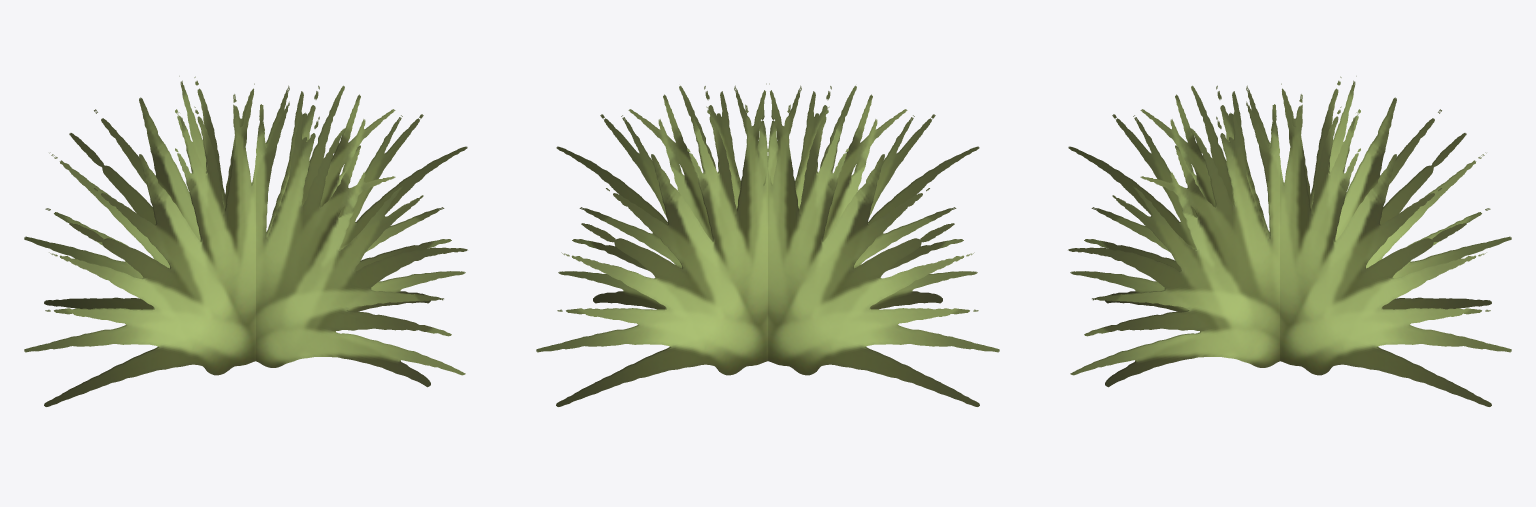
File: HP3_weed3 1.fbx
The picture shows the model from 3 angles, left to right: view 1: azimuth 30°, elevation 25°; view 2: azimuth 150°, elevation 25°; view 3: azimuth 270°, elevation 25°; orthographic projection.
Visible parts, largest first — view 1: HP3_weed3; view 2: HP3_weed3; view 3: HP3_weed3.
Part boxes in pixels (bbox=[...]): HP3_weed3: bbox=[24, 76, 467, 406]; HP3_weed3: bbox=[536, 83, 999, 406]; HP3_weed3: bbox=[1068, 76, 1511, 406].
Bounding box in the file's own units: 10 × 6.65 × 8.68.
